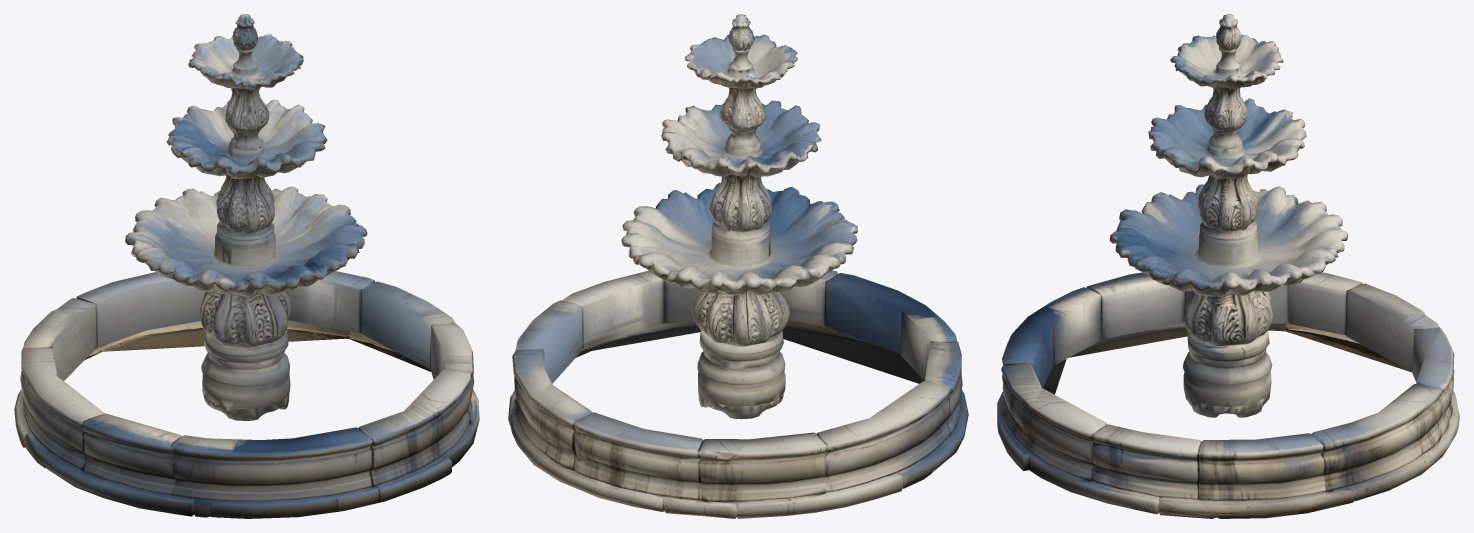
Rendered from fountain.glb.
3 views of the same model, side by side, from view 1: azimuth 30°, elevation 25°; view 2: azimuth 150°, elevation 25°; view 3: azimuth 270°, elevation 25° (orthographic).
Visible parts, largest first — view 1: Model_0; view 2: Model_0; view 3: Model_0.
Part boxes in pixels (box(x1,y1,x2,y2)): Model_0: box(14, 14, 479, 518); Model_0: box(508, 14, 968, 518); Model_0: box(997, 14, 1459, 518).
Size of the model in its own units: 0.9941 by 0.9707 by 0.998.
Materials: 1 (1 with a texture image).
